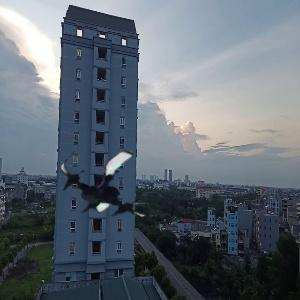drone: (58, 140, 155, 237)
